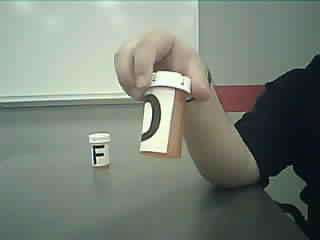Bottle D: (138, 70, 192, 161)
Bottle F: (88, 125, 116, 169)
